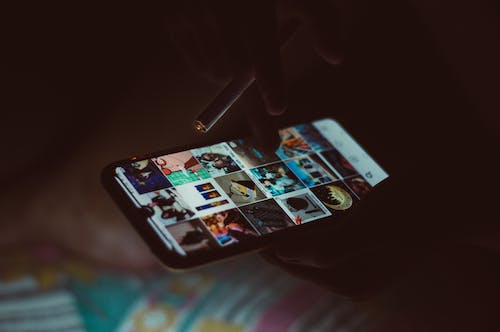cigarette: (191, 64, 257, 134)
